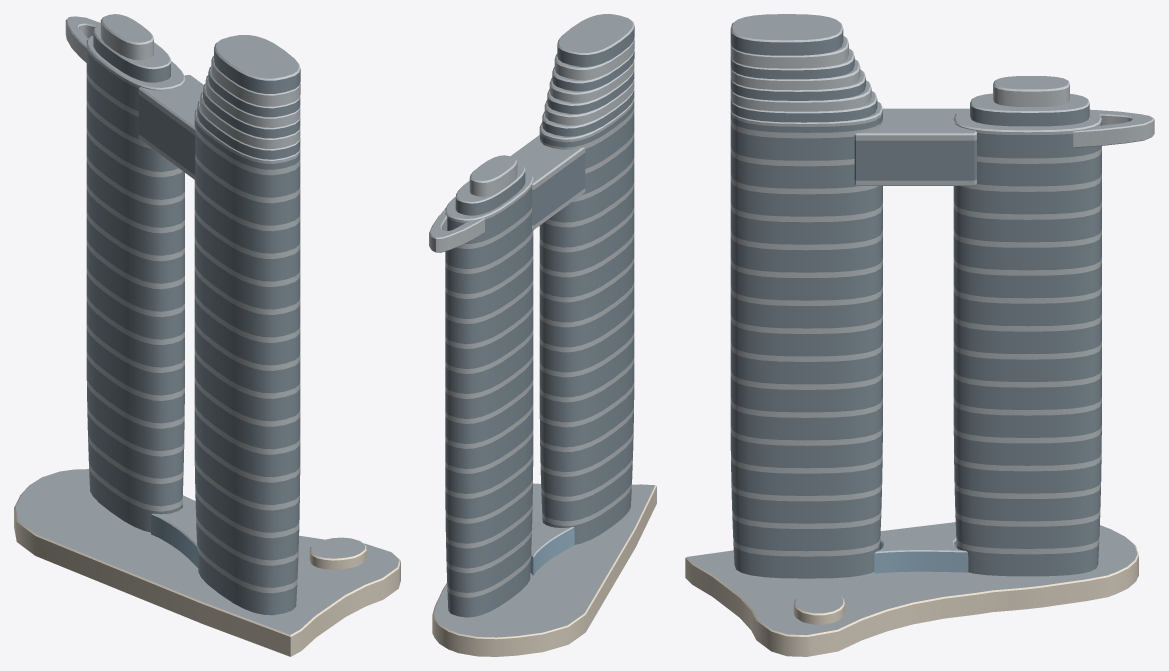
File: dubai-address-sky-view.glb
3 renders of one model, left to right at view 1: azimuth 30°, elevation 25°; view 2: azimuth 150°, elevation 25°; view 3: azimuth 270°, elevation 25°, orthographic. The views are drawn at different scales.
Visible parts, largest first — view 1: Address Sky View; view 2: Address Sky View; view 3: Address Sky View.
Boxes of the visible parts, x1=… form: Address Sky View: x1=14, y1=14, x2=400, y2=656; Address Sky View: x1=429, y1=14, x2=656, y2=656; Address Sky View: x1=685, y1=14, x2=1154, y2=656.
Bounding box in the file's own units: 124 × 264 × 201.
